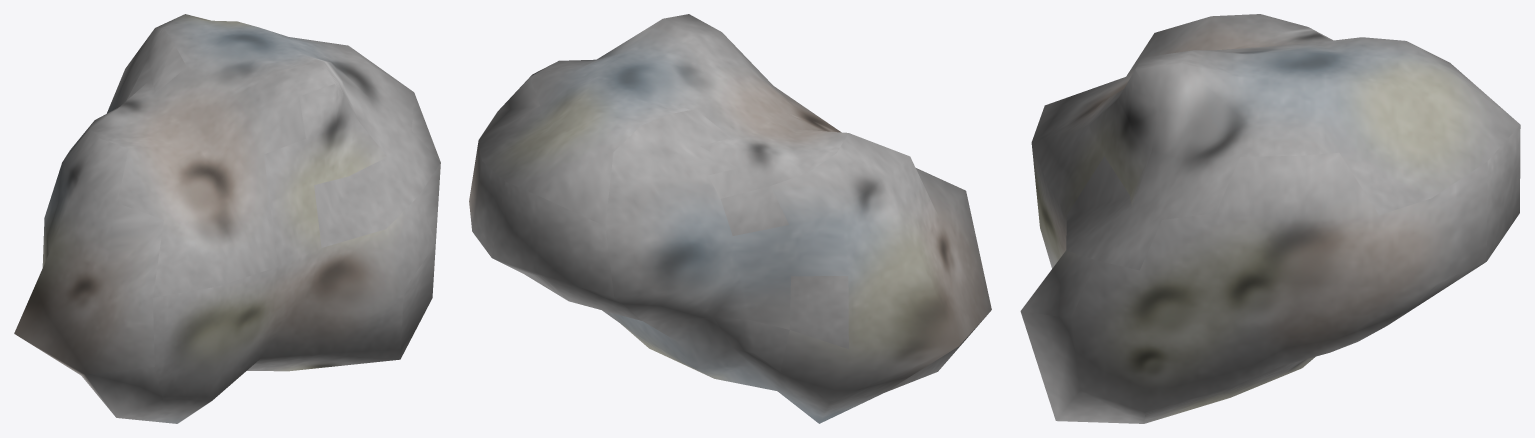
The model's file is Asteroid_2.fbx.
3 views of the same model, side by side, from view 1: azimuth 30°, elevation 25°; view 2: azimuth 150°, elevation 25°; view 3: azimuth 270°, elevation 25° (orthographic). The views are drawn at different scales.
Visible parts, largest first — view 1: pCube1; view 2: pCube1; view 3: pCube1.
Boxes of the visible parts, <box> form: pCube1: <box>14,14,440,423</box>; pCube1: <box>469,14,991,423</box>; pCube1: <box>1020,14,1520,423</box>.
Size of the model in its own units: 1.21 by 0.9244 by 1.05.
